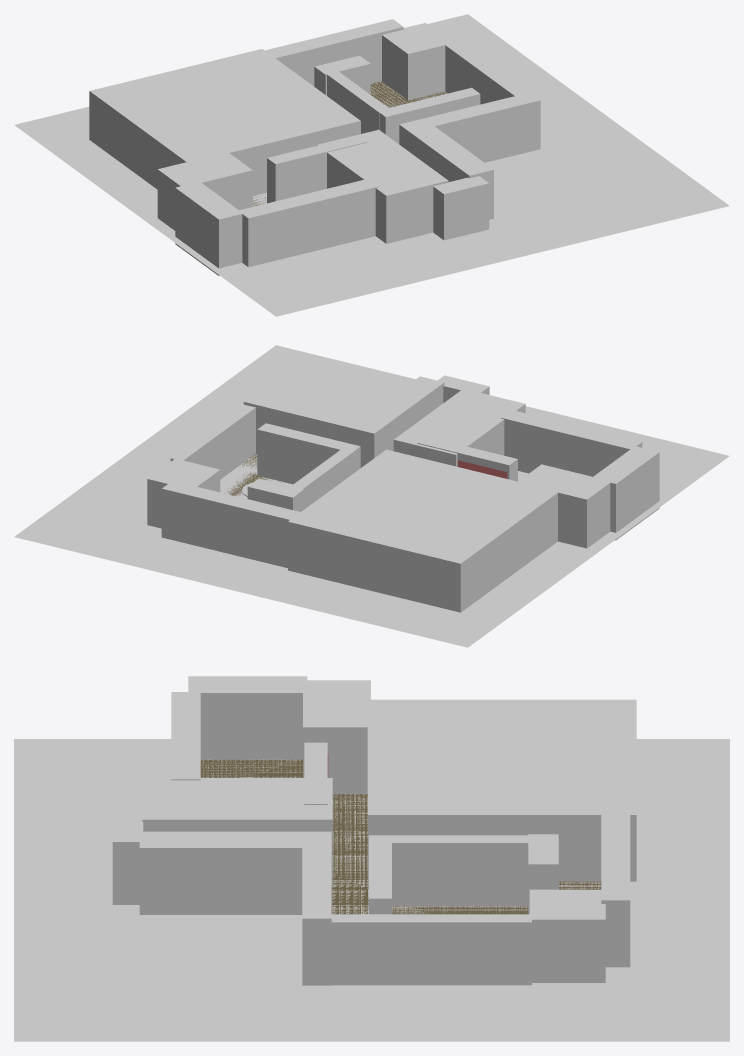
Rendered from level.glb.
3 views of the same model, one above another, from view 1: azimuth 30°, elevation 25°; view 2: azimuth 150°, elevation 25°; view 3: azimuth 270°, elevation 25° (orthographic). The views are drawn at different scales.
Parts seen in each view (by area): view 1: physics_plane_floor, physics_box.001, physics_box.005, physics_box, physics_box.006, physics_box.004, physics_box.012, physics_box.003, physics_box.007, physics_box.014, physics_box.002, physics_box.013 (+5 smaller); view 2: physics_plane_floor, physics_box.001, physics_box.007, physics_box.005, physics_box, physics_box.003, physics_box.006, physics_box.010, physics_box.004, physics_box.011, physics_box.013, physics_box.012 (+4 smaller); view 3: physics_plane_floor, physics_box.001, physics_box.011, physics_box.013, physics_box.009, physics_box, physics_box.004, floor, physics_box.012, physics_box.003, physics_box.006, physics_box.007 (+5 smaller).
Part boxes in pixels (x1,y1,x2,y2): physics_plane_floor: [14, 14, 729, 316]; physics_box.001: [89, 49, 360, 195]; physics_box.005: [239, 178, 378, 267]; physics_box: [316, 129, 448, 243]; physics_box.006: [399, 92, 540, 162]; physics_box.004: [175, 182, 242, 275]; physics_box.012: [382, 23, 452, 100]; physics_box.003: [157, 152, 252, 230]; physics_box.007: [262, 19, 403, 86]; physics_box.014: [433, 176, 489, 240]; physics_box.002: [267, 135, 367, 203]; physics_box.013: [409, 125, 493, 219]; physics_plane_floor: [14, 345, 729, 647]; physics_box.001: [288, 449, 557, 612]; physics_box.007: [161, 481, 302, 568]; physics_box.005: [501, 410, 642, 476]; physics_box: [393, 388, 525, 466]; physics_box.003: [517, 464, 610, 548]; physics_box.006: [243, 394, 384, 467]; physics_box.010: [257, 423, 360, 484]; physics_box.004: [592, 446, 659, 540]; physics_box.011: [170, 404, 255, 479]; physics_box.013: [359, 376, 444, 451]; physics_box.012: [147, 458, 220, 528]; physics_plane_floor: [14, 739, 729, 1041]; physics_box.001: [367, 699, 636, 881]; physics_box.011: [331, 914, 531, 985]; physics_box.013: [139, 831, 305, 914]; physics_box.009: [384, 835, 528, 906]; physics_box: [142, 778, 332, 885]; physics_box.004: [188, 676, 307, 759]; floor: [200, 759, 601, 914]; physics_box.012: [529, 889, 605, 982]; physics_box.003: [303, 680, 370, 793]; physics_box.006: [302, 831, 331, 985]; physics_box.007: [601, 813, 630, 967].
Bounding box in the file's own units: 34.26 × 4.14 × 34.26.
